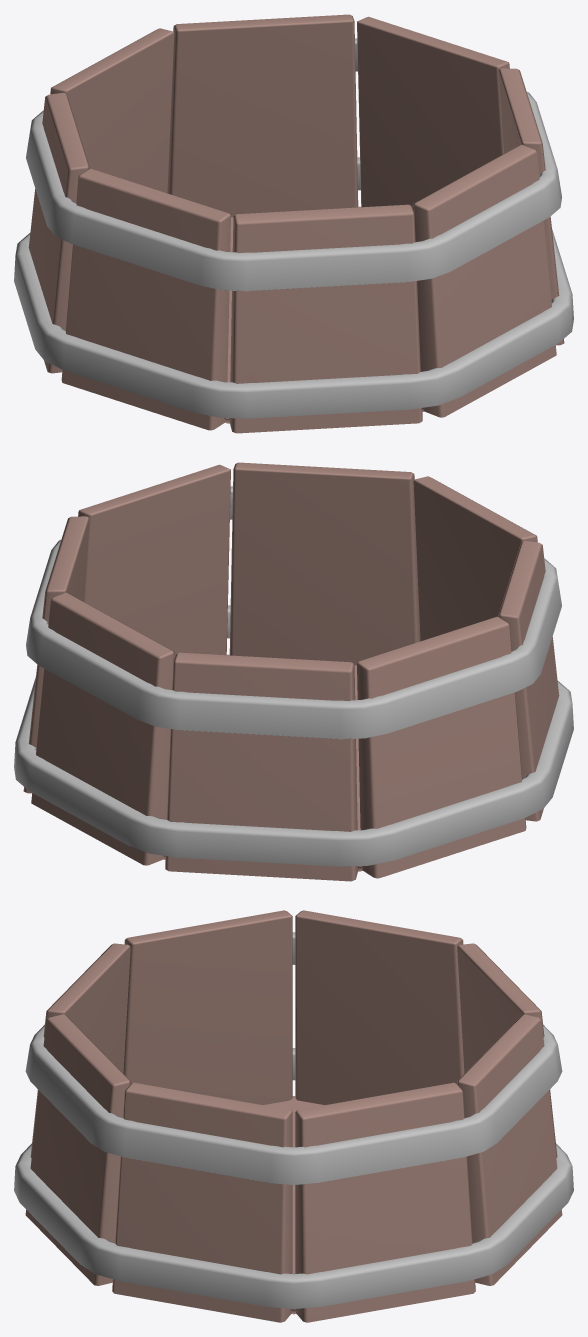
File: Farm_3_Bucket_1.glb
The picture shows the model from 3 angles, top to bottom: view 1: azimuth 30°, elevation 25°; view 2: azimuth 150°, elevation 25°; view 3: azimuth 270°, elevation 25°; orthographic projection. The views are drawn at different scales.
Parts seen in each view (by area): view 1: Farm_3_Bucket_1; view 2: Farm_3_Bucket_1; view 3: Farm_3_Bucket_1.
Boxes of the visible parts, left/top/right/bottom form: Farm_3_Bucket_1: left=14, top=14, right=573, bottom=433; Farm_3_Bucket_1: left=14, top=462, right=573, bottom=881; Farm_3_Bucket_1: left=14, top=910, right=573, bottom=1322.
Bounding box in the file's own units: 1.37 × 0.5368 × 1.37.
1 material, 1 textured.
